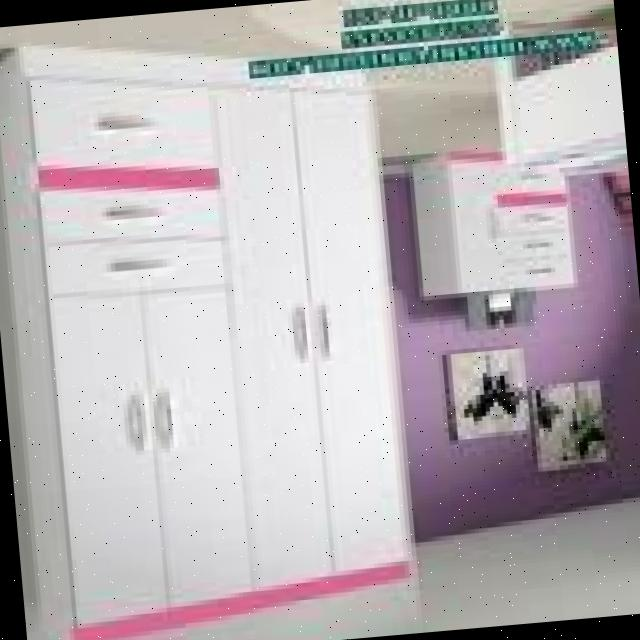Closet: (0, 8, 417, 640)
